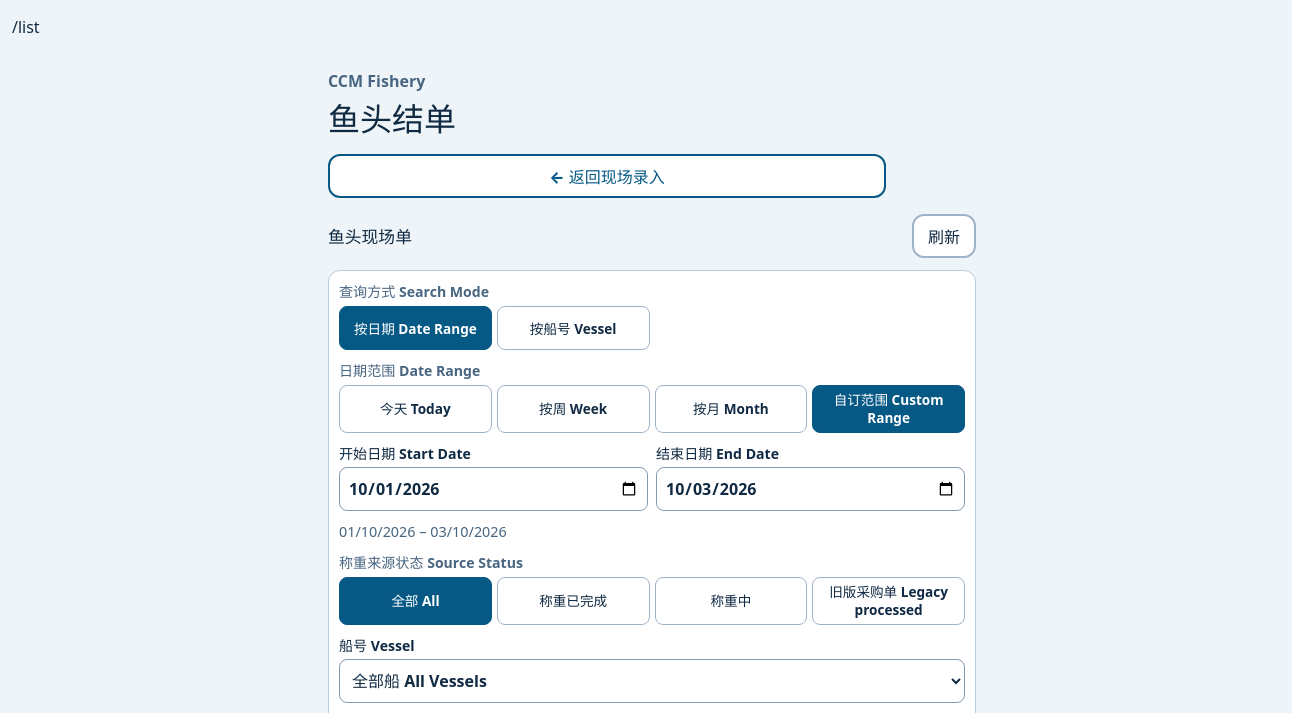
Test: fish_head shared date-first search › rejects a reversed range without an additional query or empty state
The image size is (1292, 713).
Type "2026-10-04" into the date field labelled "开始日期 Start Date" at (494, 489), box [339,467,648,511]
(page scrolled)
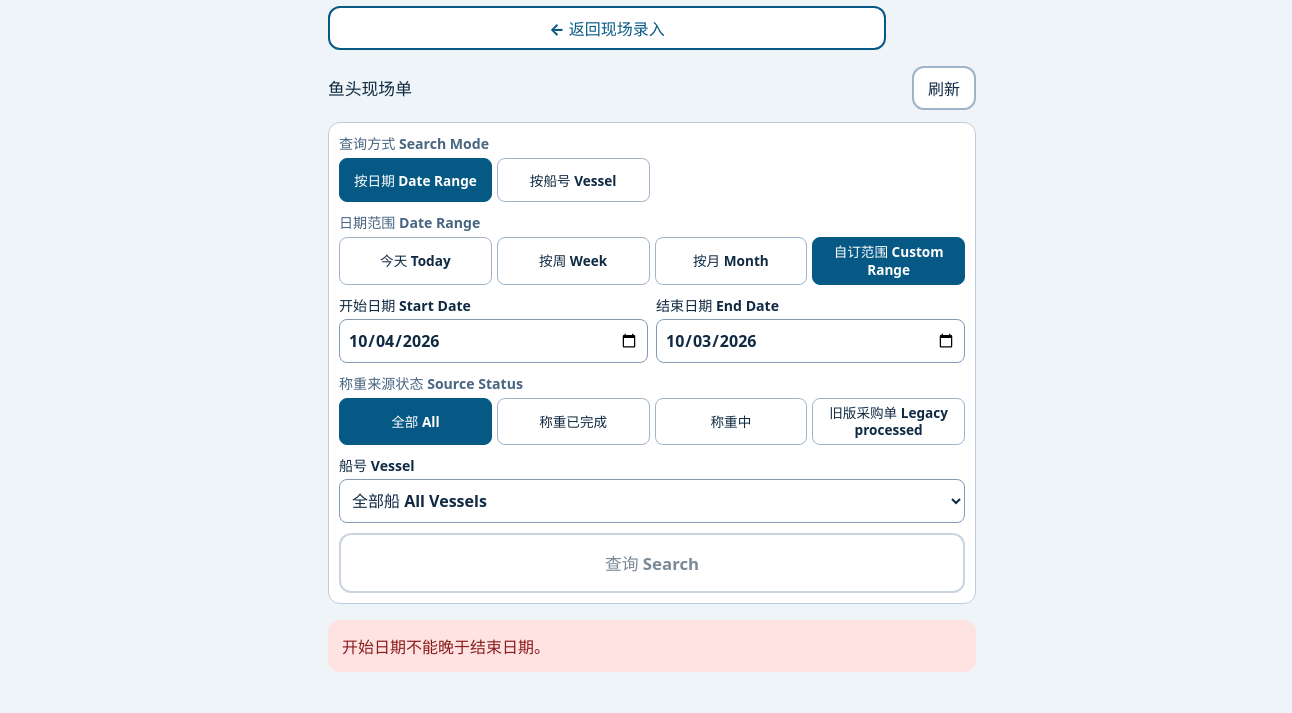
expect the message shows "开始日期不能晚于结束日期": met, box [342,636,550,658]
expect the button "查询 Search" is disabled: met, box [339,533,965,593]
